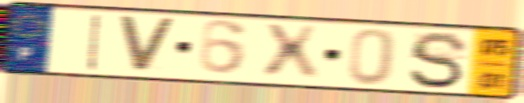0: (345, 27, 399, 88)
6: (197, 17, 251, 82)
I: (84, 12, 106, 73)
S: (406, 29, 471, 92)
V: (115, 13, 180, 76)
X: (260, 23, 323, 82)
